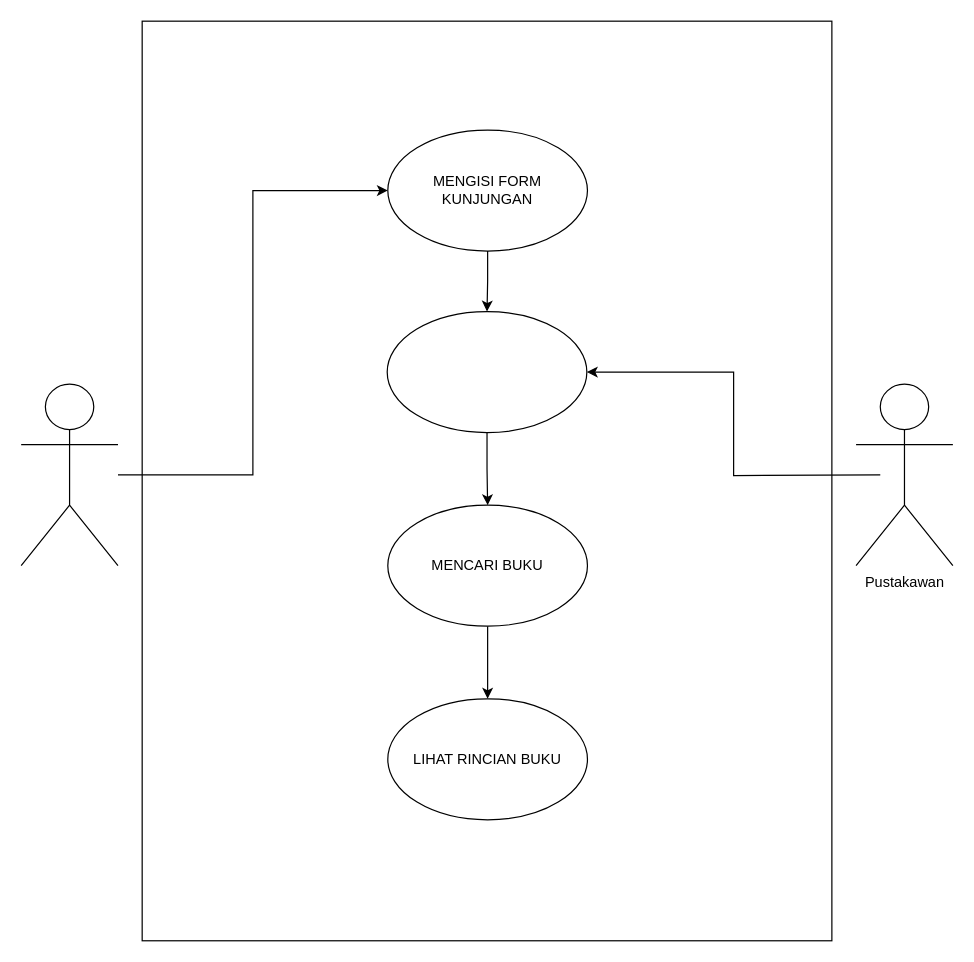
Some shapes in this 974 by 962 pixel diagram are drawn without their labels. The centre of each missing label's shape, as x and y in pixels:
"Pengunjung" goes at point 69,474.
"RIWAYAT KUNJUNGAN" goes at point 486,371.
